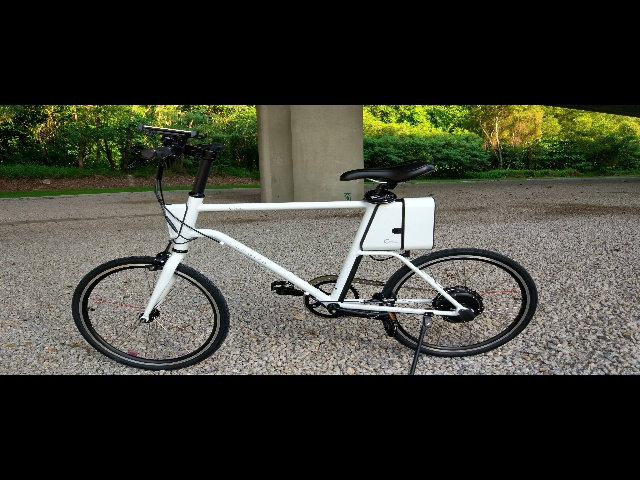bike: (70, 120, 547, 373)
